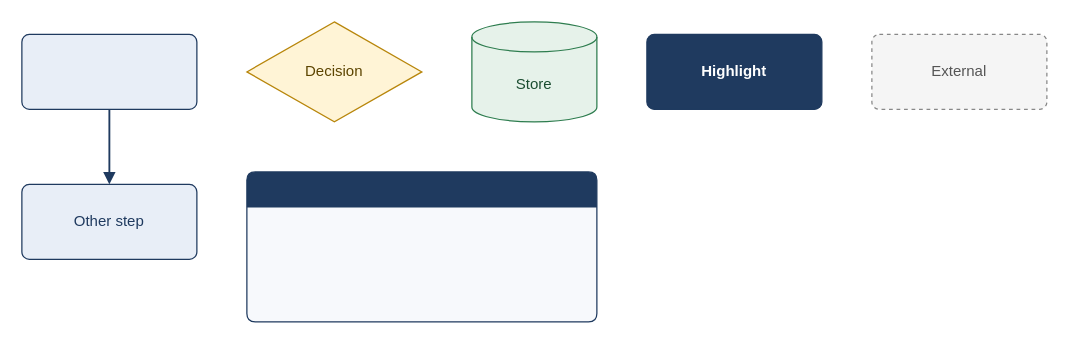
Image size: 1069x344. Some labels were removed from this diagram. Here are the shapes that lost their labels. From the top down, the centre of each, then its label:
At (x=109, y=71): "Step".
At (x=421, y=246): "Group".
